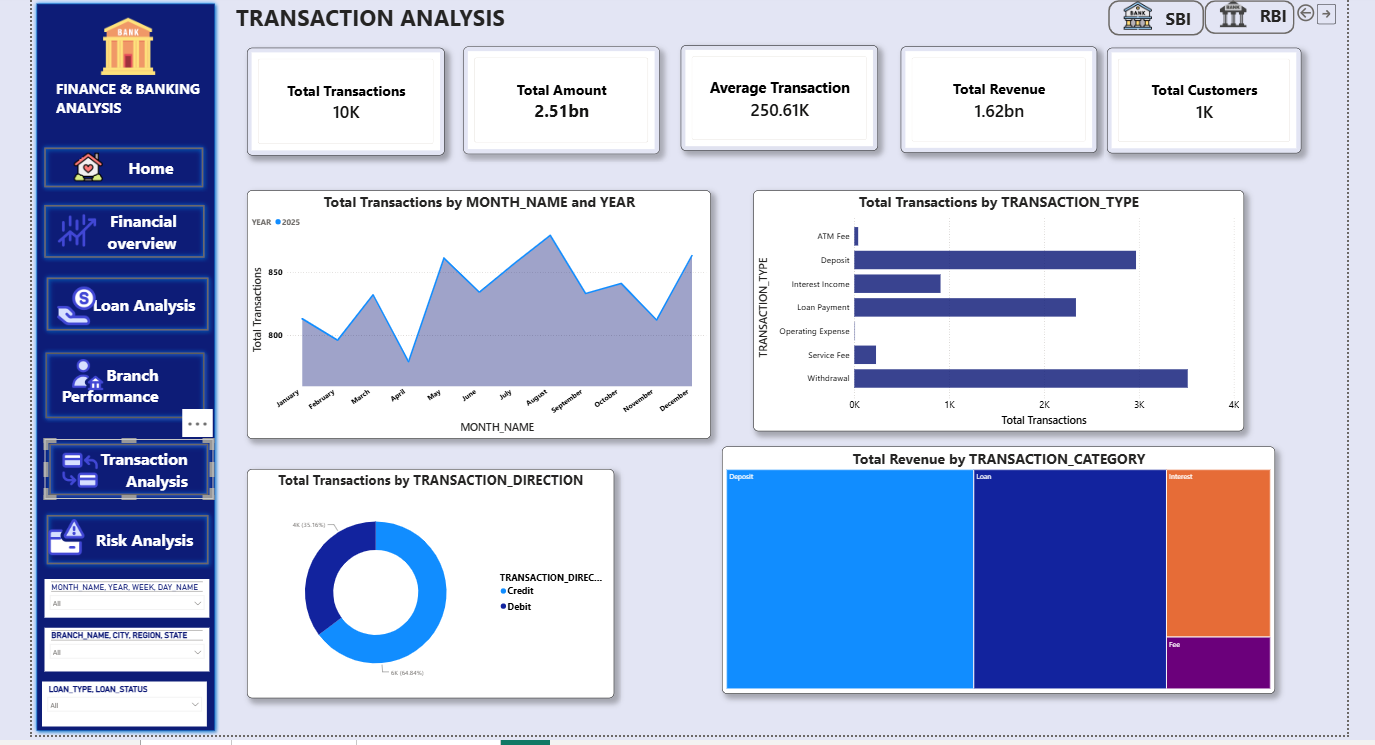

This screenshot's page, from the dashboard's own definition file:
{"tool":"powerbi","page":{"name":"Dashboard","canvas":[2500,1400],"ordinal":1},"visuals":[{"type":"shape","box":[0,0,356.7,1400.5],"z":0},{"type":"cardVisual","fields":{"Data":["Table.Total Transactions"]},"box":[409.2,92.4,376.2,204.8],"z":0,"group":"g1"},{"type":"treemap","fields":{"Group":["DIM_TRANSACTION.TRANSACTION_CATEGORY"],"Values":["Table.Total Revenue"]},"box":[1314,851,1052.2,470.3],"z":0,"group":"g2"},{"type":"image","box":[123.3,34.5,118.4,108.5],"z":1000},{"type":"cardVisual","fields":{"Data":["Table.Total Amount"]},"box":[821.7,90,373.8,204.8],"z":1000,"group":"g1"},{"type":"donutChart","fields":{"Category":["DIM_TRANSACTION.TRANSACTION_DIRECTION"],"Y":["Table.Total Transactions"]},"box":[409.7,894.6,698.2,436.4],"z":1000,"group":"g2"},{"type":"cardVisual","fields":{"Data":["Table.Total Customers"]},"box":[2045,93.3,370,200.5],"z":2000,"group":"g1"},{"type":"actionButton","title":"home button","box":[14.8,273.7,320.5,93.7],"z":2000},{"type":"clusteredBarChart","fields":{"Category":["DIM_TRANSACTION.TRANSACTION_TYPE"],"Y":["Table.Total Transactions"]},"box":[1372.2,363.7,933.4,458.2],"z":2000,"group":"g2"},{"type":"cardVisual","fields":{"Data":["Table.Average Transaction"]},"box":[1235.3,87.9,375.2,201],"z":3000,"group":"g1"},{"type":"lineChart","fields":{"Category":["DIM_DATE.MONTH_NAME"],"Y":["Table.Total Transactions"],"Series":["DIM_DATE.YEAR"]},"box":[409.7,363.7,882.5,472.8],"z":3000,"group":"g2"},{"type":"actionButton","title":"financial button","box":[14.8,382.2,323,118.4],"z":3000},{"type":"cardVisual","fields":{"Data":["Table.Total Revenue"]},"box":[1652.1,90,373.8,202.4],"z":4000,"group":"g1"},{"type":"actionButton","title":"branch button","box":[17.3,663.3,320.5,143],"z":5000},{"type":"actionButton","title":" transaction button","box":[24.7,835.9,320.5,115.9],"z":6000},{"type":"actionButton","title":" risk button","box":[19,972.5,325.7,111.8],"z":7000},{"type":"textbox","title":"title ","box":[39.5,147.9,293.4,88.8],"z":8000},{"type":"slicer","fields":{"Values":["DIM_DATE.MONTH_NAME","DIM_DATE.YEAR","DIM_DATE.WEEK","DIM_DATE.DAY_NAME"]},"box":[23.8,1103.3,313.9,73.7],"z":9000},{"type":"slicer","fields":{"Values":["DIM_BRANCH.BRANCH_NAME","DIM_BRANCH.CITY","DIM_BRANCH.REGION","DIM_BRANCH.STATE"]},"box":[23.8,1196,313.9,83.2],"z":10000},{"type":"actionButton","title":"loan button","box":[19,520.7,325.7,118.9],"z":13000},{"type":"actionButton","box":[2401.5,0,42.8,52.3],"z":18000},{"type":"group","id":"g1","title":"transaction card","box":[409.2,87.9,2005.6,209.7],"z":20000},{"type":"group","id":"g2","title":"transaction visual","box":[409.7,363.7,1956.5,967.3],"z":21000},{"type":"textbox","title":" transaction Text box","box":[382.2,0,571.6,87.9],"z":22000},{"type":"image","box":[2254,2.7,61.6,50.9],"z":26000},{"type":"textbox","box":[2329,5.4,72.4,64.3],"z":27000},{"type":"slicer","fields":{"Values":["DIM_LOAN.LOAN_TYPE","DIM_LOAN.LOAN_STATUS"]},"box":[19,1298.2,313.9,85.6],"z":28000},{"type":"actionButton","box":[2229.9,2.7,171.5,64.3],"z":29000},{"type":"actionButton","box":[2047.6,2.7,182.2,67],"z":30000},{"type":"image","box":[66.6,292.5,80.8,54.7],"z":31000},{"type":"image","box":[42.9,404.7,85.8,72.4],"z":32000},{"type":"textbox","box":[2146.7,10.8,67,53.6],"z":33000,"group":"g3"},{"type":"image","box":[45.2,684.8,121.3,59.4],"z":33000},{"type":"image","box":[2069,5.4,69.7,53.6],"z":34000,"group":"g3"},{"type":"image","box":[23.8,989.1,83.2,69],"z":34000},{"type":"image","box":[54.7,863.1,73.7,66.6],"z":35000},{"type":"image","box":[26.2,546.9,116.5,73.7],"z":36000},{"type":"group","id":"g3","title":"Group 2","box":[2069,5.4,144.7,59],"z":38000},{"type":"actionButton","box":[2444.3,9.5,35.7,38],"z":39000}]}

Visuals, with their boxes on the page's 2500x1400 design canvas (x1, y1, x2, y2). These are canvas units, not pixel positions in the 1375x745 screenshot, which may show the page scaled, cropped or inside an application window:
shape: (left=0, top=0, right=357, bottom=1400)
cardVisual - Table.Total Transactions: (left=409, top=92, right=785, bottom=297)
treemap - DIM_TRANSACTION.TRANSACTION_CATEGORY x Table.Total Revenue: (left=1314, top=851, right=2366, bottom=1321)
image: (left=123, top=34, right=242, bottom=143)
cardVisual - Table.Total Amount: (left=822, top=90, right=1196, bottom=295)
donutChart - DIM_TRANSACTION.TRANSACTION_DIRECTION x Table.Total Transactions: (left=410, top=895, right=1108, bottom=1331)
cardVisual - Table.Total Customers: (left=2045, top=93, right=2415, bottom=294)
"home button" actionButton: (left=15, top=274, right=335, bottom=367)
clusteredBarChart - DIM_TRANSACTION.TRANSACTION_TYPE x Table.Total Transactions: (left=1372, top=364, right=2306, bottom=822)
cardVisual - Table.Average Transaction: (left=1235, top=88, right=1610, bottom=289)
lineChart - DIM_DATE.MONTH_NAME x Table.Total Transactions: (left=410, top=364, right=1292, bottom=836)
"financial button" actionButton: (left=15, top=382, right=338, bottom=501)
cardVisual - Table.Total Revenue: (left=1652, top=90, right=2026, bottom=292)
"branch button" actionButton: (left=17, top=663, right=338, bottom=806)
" transaction button" actionButton: (left=25, top=836, right=345, bottom=952)
" risk button" actionButton: (left=19, top=972, right=345, bottom=1084)
"title " textbox: (left=40, top=148, right=333, bottom=237)
slicer - DIM_DATE.MONTH_NAME x DIM_DATE.YEAR: (left=24, top=1103, right=338, bottom=1177)
slicer - DIM_BRANCH.BRANCH_NAME x DIM_BRANCH.CITY: (left=24, top=1196, right=338, bottom=1279)
"loan button" actionButton: (left=19, top=521, right=345, bottom=640)
actionButton: (left=2402, top=0, right=2444, bottom=52)
"transaction card" group: (left=409, top=88, right=2415, bottom=298)
"transaction visual" group: (left=410, top=364, right=2366, bottom=1331)
" transaction Text box" textbox: (left=382, top=0, right=954, bottom=88)
image: (left=2254, top=3, right=2316, bottom=54)
textbox: (left=2329, top=5, right=2401, bottom=70)
slicer - DIM_LOAN.LOAN_TYPE x DIM_LOAN.LOAN_STATUS: (left=19, top=1298, right=333, bottom=1384)
actionButton: (left=2230, top=3, right=2401, bottom=67)
actionButton: (left=2048, top=3, right=2230, bottom=70)
image: (left=67, top=292, right=147, bottom=347)
image: (left=43, top=405, right=129, bottom=477)
textbox: (left=2147, top=11, right=2214, bottom=64)
image: (left=45, top=685, right=166, bottom=744)
image: (left=2069, top=5, right=2139, bottom=59)
image: (left=24, top=989, right=107, bottom=1058)
image: (left=55, top=863, right=128, bottom=930)
image: (left=26, top=547, right=143, bottom=621)
"Group 2" group: (left=2069, top=5, right=2214, bottom=64)
actionButton: (left=2444, top=10, right=2480, bottom=48)
